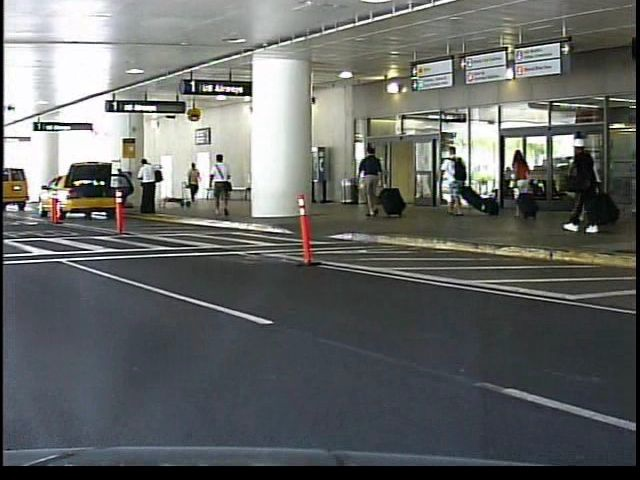person: (564, 128, 607, 240), (505, 139, 544, 226), (438, 139, 475, 219), (356, 140, 386, 223), (209, 143, 241, 216), (184, 159, 206, 207)
